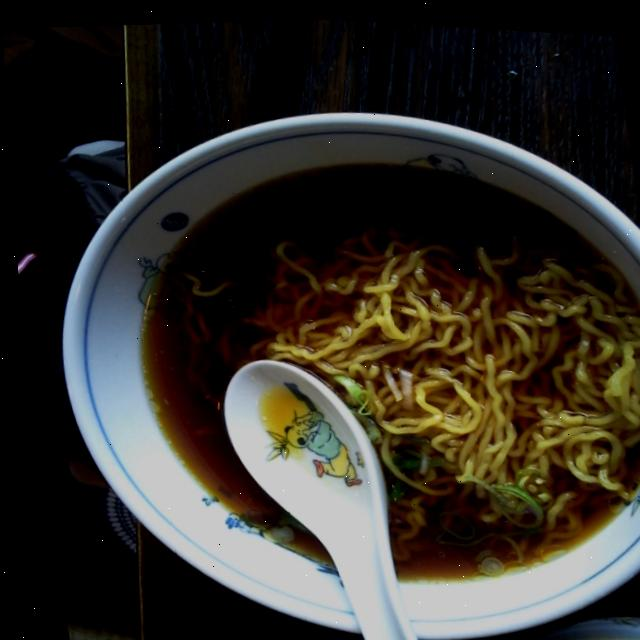面条主食: (3, 56, 640, 640)
